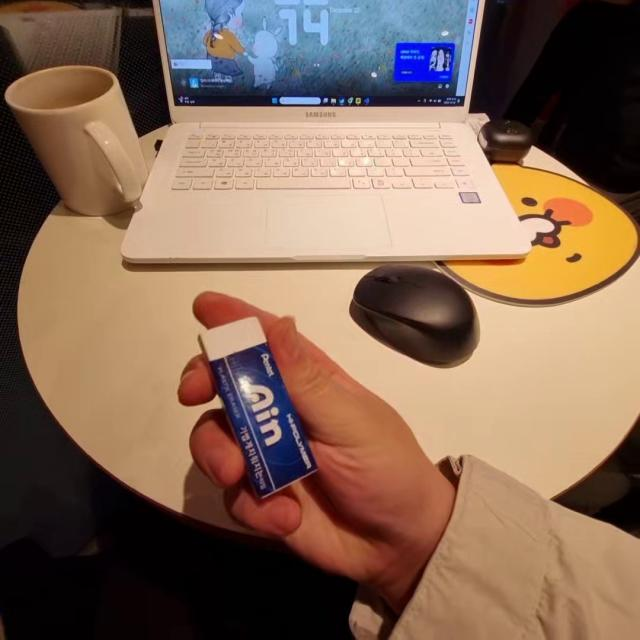eraser: (208, 322, 311, 485)
grab_eraser: (177, 310, 451, 606)
mouse: (344, 258, 489, 382)
